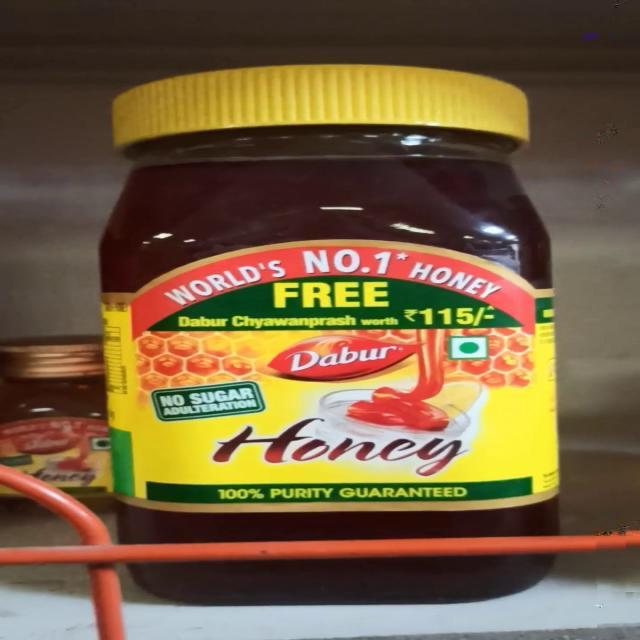Dabur Honey: (94, 66, 566, 604)
